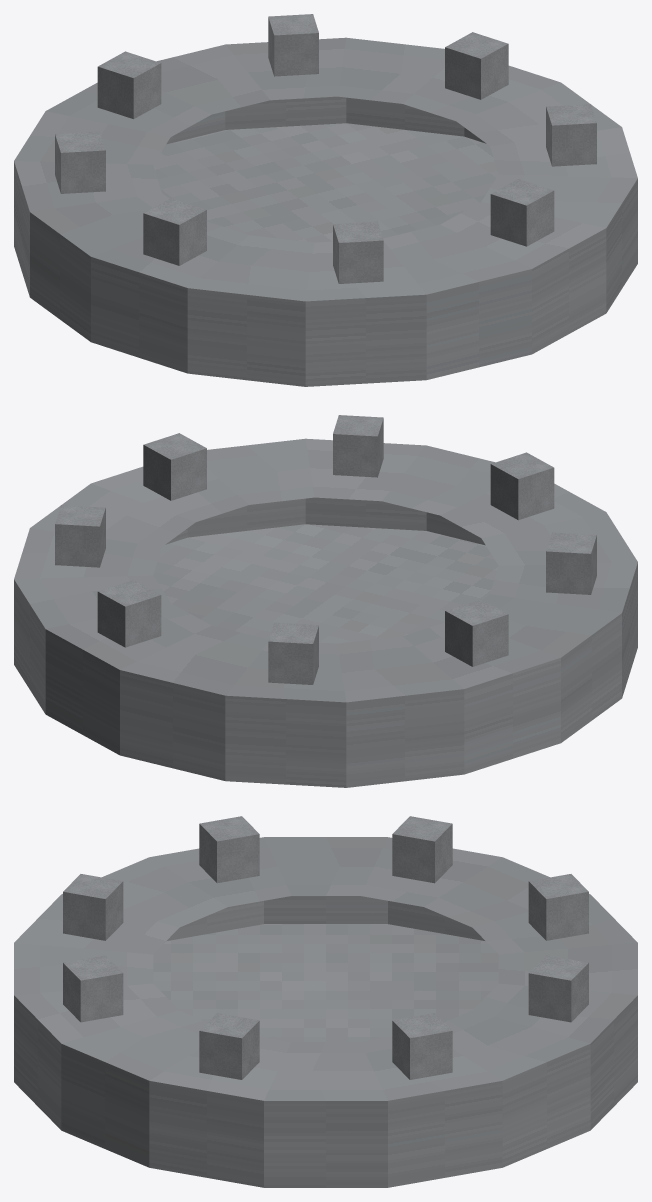
The model's file is port_down.obj.
The picture shows the model from 3 angles, top to bottom: view 1: azimuth 30°, elevation 25°; view 2: azimuth 150°, elevation 25°; view 3: azimuth 270°, elevation 25°; orthographic projection.
Size of the model in its own units: 0.8125 by 0.185 by 0.8125.
